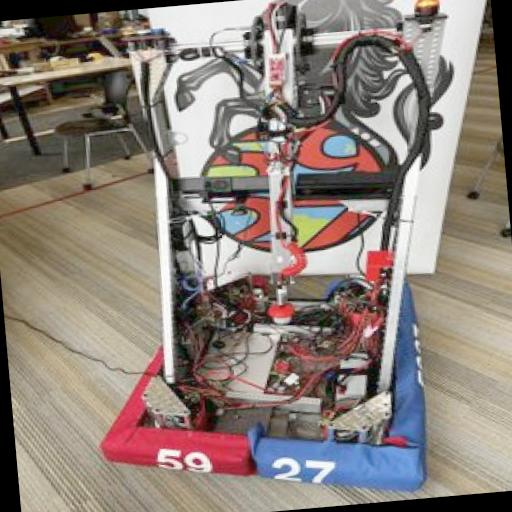robot: (56, 0, 488, 512)
